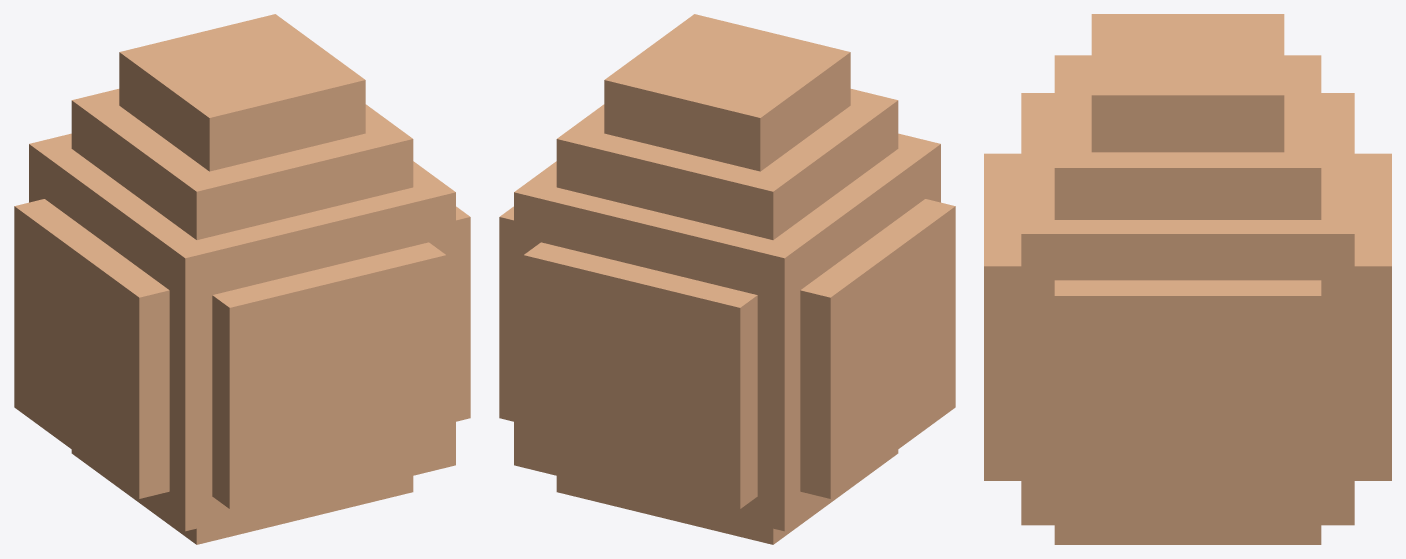
The model's file is 1.Chicken.fbx.
The picture shows the model from 3 angles, left to right: view 1: azimuth 30°, elevation 25°; view 2: azimuth 150°, elevation 25°; view 3: azimuth 270°, elevation 25°; orthographic projection. The views are drawn at different scales.
Visible parts, largest first — view 1: Chicken; view 2: Chicken; view 3: Chicken.
Boxes of the visible parts, bbox=[...] form: Chicken: bbox=[14, 14, 470, 544]; Chicken: bbox=[499, 14, 955, 544]; Chicken: bbox=[984, 14, 1391, 544].
Size of the model in its own units: 2.89 by 3.39 by 2.89.
